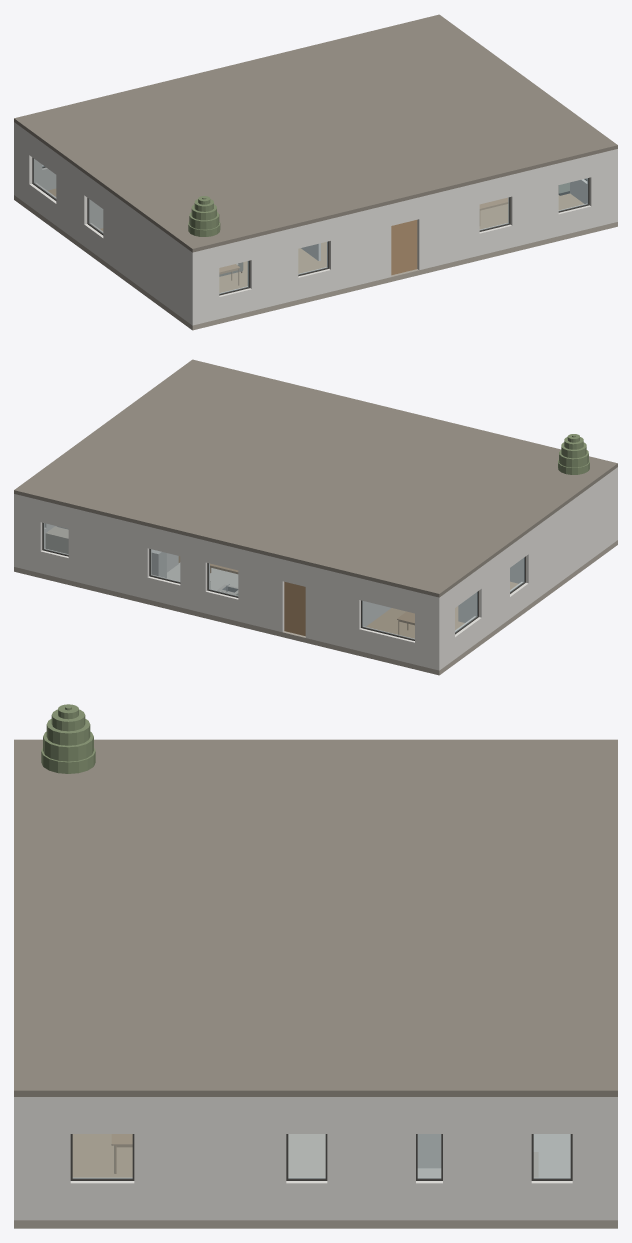
File: plan.glb
3 views of the same model, one above another, from view 1: azimuth 30°, elevation 25°; view 2: azimuth 150°, elevation 25°; view 3: azimuth 270°, elevation 25° (orthographic). The views are drawn at different scales.
Parts seen in each view (by area): view 1: roof:roof, wall:w_front, wall:w_west, slab:slab, door:d_front, furniture:f_tree, floor:r_living, floor:r_dining, window:win_liv_s1:glass, window:win_liv_s2:glass, window:win_din_s1:glass, window:win_din_s2:glass (+2 smaller); view 2: roof:roof, wall:w_rear, wall:w_west, slab:slab, window:win_sun_n:glass, door:d_back, furniture:f_tree, floor:r_sun, window:win_kit_n1:glass, window:win_kit_n2:glass, window:win_laun_n:glass, floor:r_kitchen (+2 smaller); view 3: roof:roof, wall:w_east, slab:slab, furniture:f_tree, window:win_din_e:glass, floor:r_dining, wall:w_front, wall:w_rear, window:win_pant_e:glass, floor:r_pantry, window:win_laun_e:glass, floor:r_laundry (+2 smaller).
Part boxes in pixels (<box>): roof:roof: <box>14,14,617,252</box>; wall:w_front: <box>188,149,617,325</box>; wall:w_west: <box>18,125,188,322</box>; slab:slab: <box>14,195,617,330</box>; door:d_front: <box>391,220,417,275</box>; furniture:f_tree: <box>188,196,220,236</box>; floor:r_living: <box>219,248,326,292</box>; floor:r_dining: <box>479,193,583,229</box>; window:win_liv_s1:glass: <box>219,261,248,293</box>; window:win_liv_s2:glass: <box>298,242,327,274</box>; window:win_din_s1:glass: <box>480,197,508,230</box>; window:win_din_s2:glass: <box>559,178,587,210</box>; roof:roof: <box>14,359,617,597</box>; wall:w_rear: <box>14,494,443,670</box>; wall:w_west: <box>443,470,613,667</box>; slab:slab: <box>14,540,617,675</box>; window:win_sun_n:glass: <box>362,601,414,639</box>; door:d_back: <box>284,581,305,635</box>; furniture:f_tree: <box>558,434,589,474</box>; floor:r_sun: <box>366,608,464,638</box>; window:win_kit_n1:glass: <box>209,563,237,596</box>; window:win_kit_n2:glass: <box>151,549,179,582</box>; window:win_laun_n:glass: <box>44,523,68,554</box>; floor:r_kitchen: <box>167,563,238,590</box>; roof:roof: <box>14,739,617,1096</box>; wall:w_east: <box>27,1097,604,1220</box>; slab:slab: <box>14,1220,617,1228</box>; furniture:f_tree: <box>41,704,95,773</box>; window:win_din_e:glass: <box>73,1134,132,1178</box>; floor:r_dining: <box>72,1134,132,1177</box>; wall:w_front: <box>14,1097,27,1220</box>; wall:w_rear: <box>604,1097,617,1220</box>; window:win_pant_e:glass: <box>288,1134,325,1178</box>; floor:r_pantry: <box>288,1134,325,1177</box>; window:win_laun_e:glass: <box>534,1134,570,1178</box>; floor:r_laundry: <box>533,1134,570,1177</box>.
Bounding box in the file's own units: 18.3 × 4.71 × 13.3.
